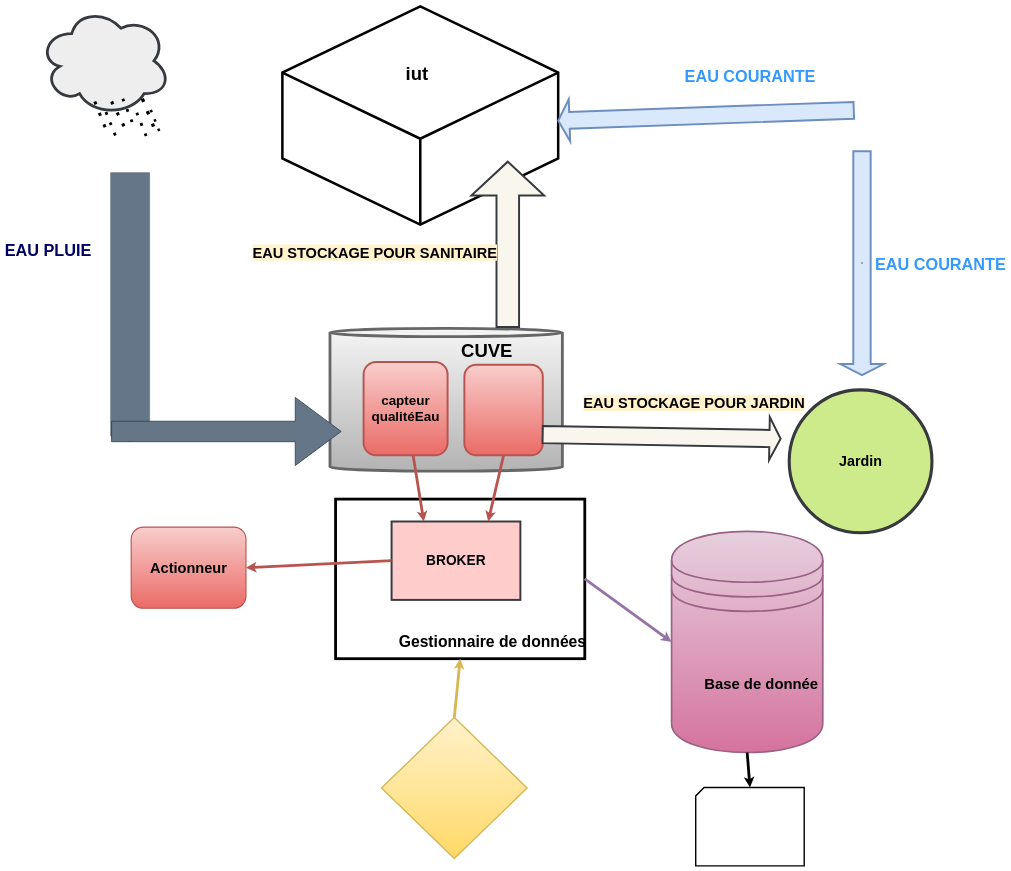
Some shapes in this 1011 by 871 pixel diagram are drawn without their labels. Here are the shapes that lost their labels. From the top down, the centre of each, then its label:
At point 503,410: "capteur niveauEau".
At point 454,788: "API meteo".
At point 750,826: "DASHBOARD".
